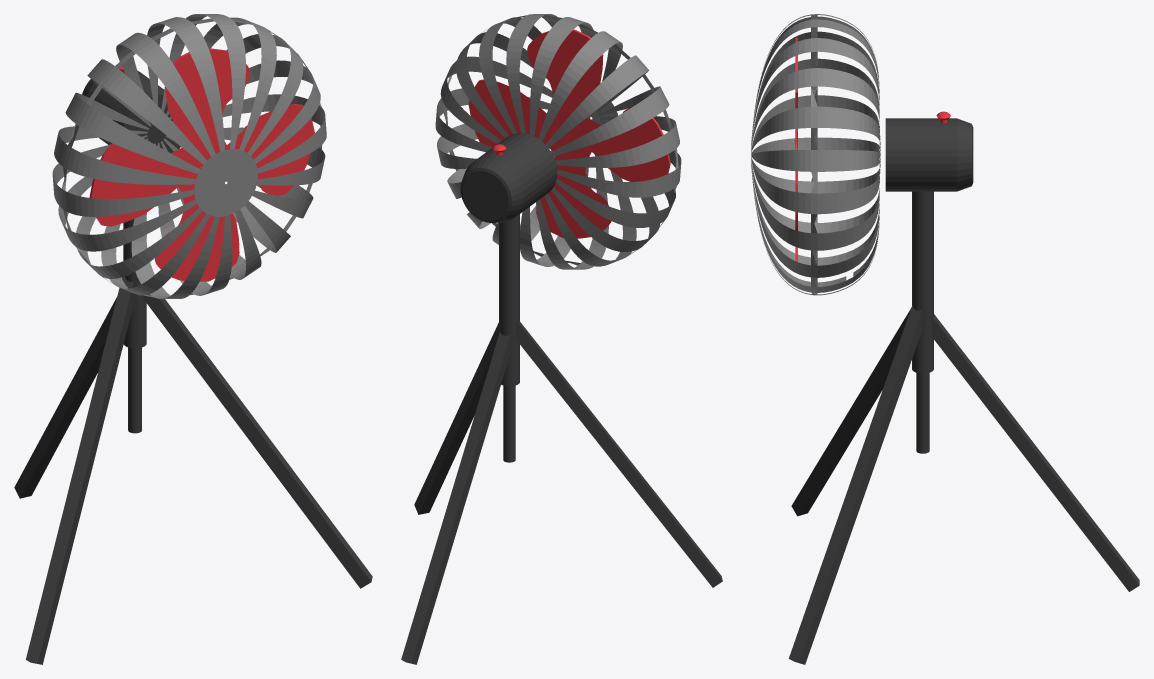
Rendered from fan.fbx.
3 renders of one model, left to right at view 1: azimuth 30°, elevation 25°; view 2: azimuth 150°, elevation 25°; view 3: azimuth 270°, elevation 25°, orthographic. The views are drawn at different scales.
Visible parts, largest first — view 1: 球.001, 立方体.001, 立方体.002, 立方体, hane1.002, hane1.001, hane1.003, hane1, 円柱.001, 円柱; view 2: 球.001, 円柱, 立方体, 立方体.001, 円柱.001, 立方体.002, hane1.002, hane1.001, hane1.003, hane1; view 3: 球.001, 立方体.002, 円柱, 立方体, 円柱.001, 立方体.001.
Boxes of the visible parts, bbox=[...] form: 球.001: bbox=[52, 14, 326, 298]; 立方体.001: bbox=[26, 276, 133, 664]; 立方体.002: bbox=[143, 294, 372, 588]; 立方体: bbox=[14, 285, 135, 498]; hane1.002: bbox=[165, 48, 249, 202]; hane1.001: bbox=[89, 142, 213, 226]; hane1.003: bbox=[154, 134, 239, 281]; hane1: bbox=[178, 104, 314, 195]; 円柱.001: bbox=[123, 219, 146, 433]; 円柱: bbox=[82, 70, 180, 153]; 球.001: bbox=[435, 14, 681, 269]; 円柱: bbox=[460, 133, 557, 222]; 立方体: bbox=[401, 332, 510, 664]; 立方体.001: bbox=[516, 322, 722, 587]; 円柱.001: bbox=[499, 214, 519, 462]; 立方体.002: bbox=[414, 322, 498, 514]; hane1.002: bbox=[527, 29, 603, 173]; hane1.001: bbox=[542, 107, 670, 181]; hane1.003: bbox=[536, 112, 611, 238]; hane1: bbox=[468, 79, 598, 156]; 球.001: bbox=[751, 14, 880, 295]; 立方体.002: bbox=[788, 305, 922, 664]; 円柱: bbox=[885, 118, 973, 191]; 立方体: bbox=[932, 314, 1139, 591]; 円柱.001: bbox=[912, 191, 933, 453]; 立方体.001: bbox=[791, 309, 910, 516].
Size of the model in its own units: 4.11 by 6.78 by 4.25.
